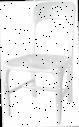Silla: (2, 1, 78, 126)
